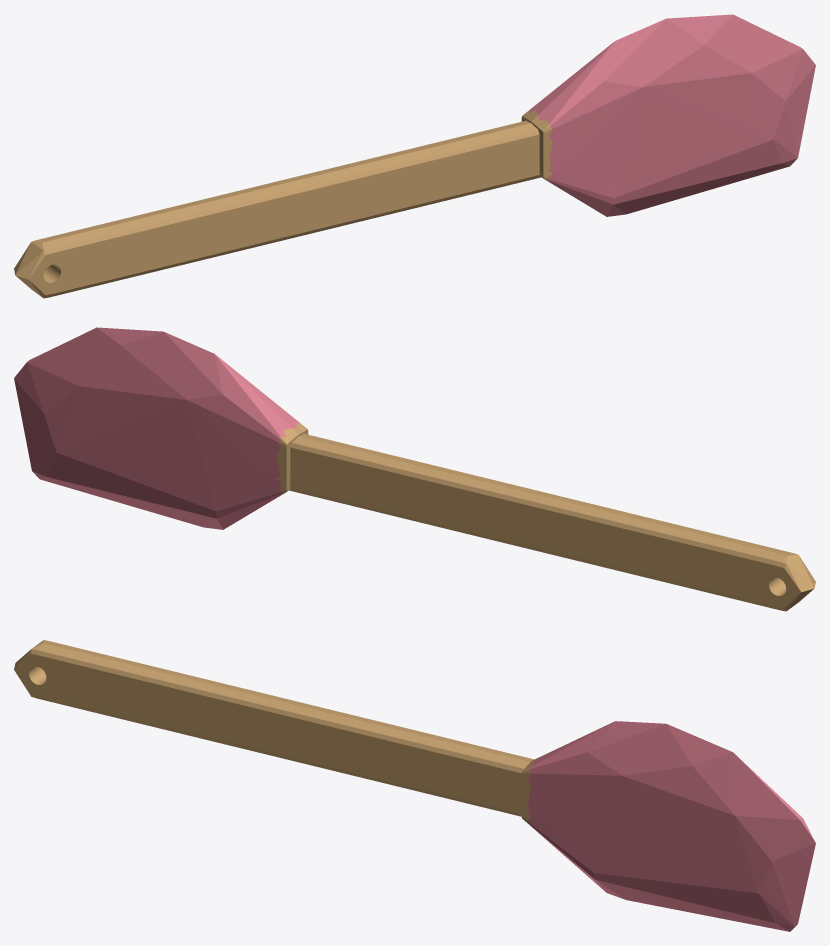
3 views of the same model, one above another, from view 1: azimuth 30°, elevation 25°; view 2: azimuth 150°, elevation 25°; view 3: azimuth 330°, elevation 25° (orthographic).
Visible parts, largest first — view 1: geometry_0; view 2: geometry_0; view 3: geometry_0.
Boxes of the visible parts, x1=… form: geometry_0: x1=14, y1=14, x2=815, y2=298; geometry_0: x1=14, y1=327, x2=815, y2=611; geometry_0: x1=14, y1=640, x2=815, y2=931.
Size of the model in its own units: 0.2948 by 0.0655 by 0.0138.
1 material, 1 textured.
